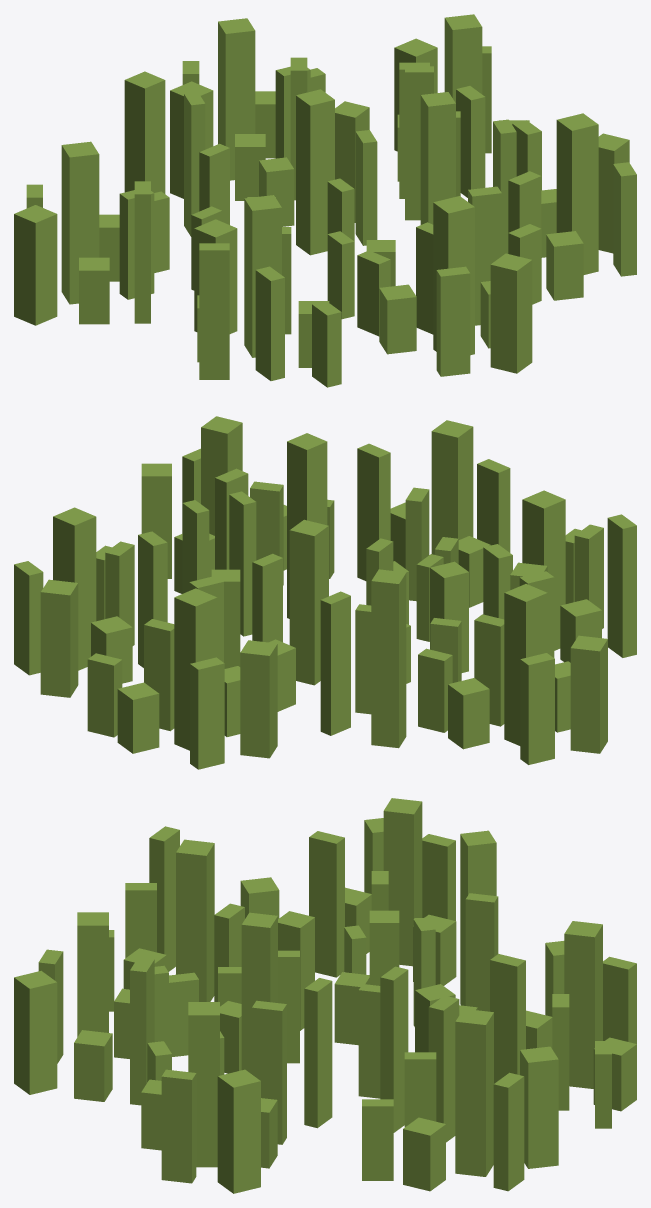
File: SM_Grass_01_C.fbx
3 views of the same model, one above another, from view 1: azimuth 30°, elevation 25°; view 2: azimuth 150°, elevation 25°; view 3: azimuth 270°, elevation 25° (orthographic). The views are drawn at different scales.
Visible parts, largest first — view 1: pCube253; view 2: pCube253; view 3: pCube253.
Part boxes in pixels (bbox=[...]): pCube253: bbox=[14, 14, 636, 387]; pCube253: bbox=[14, 416, 636, 769]; pCube253: bbox=[14, 798, 636, 1193].
Bounding box in the file's own units: 55.2 × 17.43 × 53.6.
